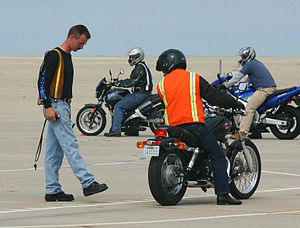helmet: (143, 47, 233, 162), (218, 44, 277, 107), (115, 43, 156, 119)
